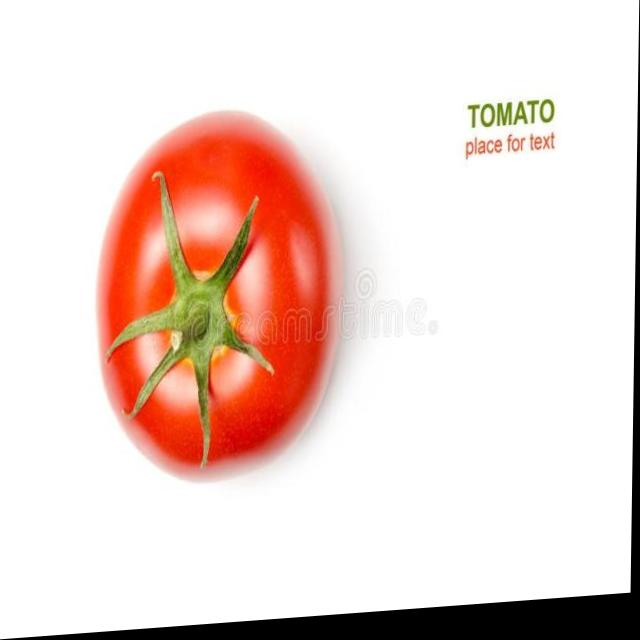kirmizi: (84, 104, 383, 489)
